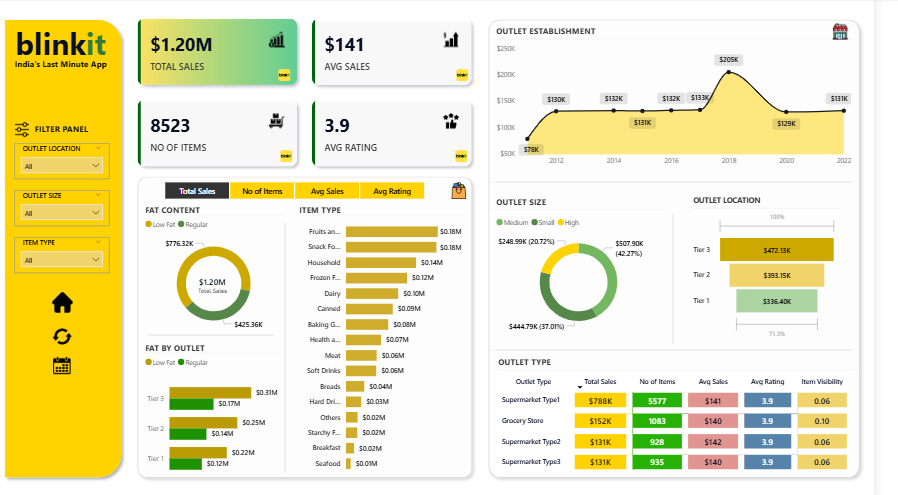

Layout of this report page (visuals, bound fields, positions):
{"tool":"powerbi","page":{"name":"Home","canvas":[1400,800],"ordinal":0},"visuals":[{"type":"shape","box":[0,25.3,205,750.7],"z":0},{"type":"textbox","box":[0,33,198.1,82.1],"z":1000},{"type":"cardVisual","fields":{"Data":["BlinkIT Grocery Data.Total Sum Sales","BlinkIT Grocery Data.Average Sales","BlinkIT Grocery Data.No of Items","BlinkIT Grocery Data.Avg Rating"]},"box":[204.8,15.8,569.7,270.8],"z":2000},{"type":"image","box":[71.4,466.3,58.7,42.6],"z":3000},{"type":"image","box":[74.4,521.1,52.1,39.7],"z":4000},{"type":"image","box":[81.8,568.8,38,39.1],"z":5000},{"type":"shape","box":[774.5,25.5,611.7,751.1],"z":6000},{"type":"areaChart","title":"OUTLET ESTABLISHMENT","fields":{"Y":["BlinkIT Grocery Data.Total Sum Sales"],"Category":["BlinkIT Grocery Data.Outlet Establishment Year2"]},"box":[790.6,42.5,578.3,234],"z":7000},{"type":"textbox","box":[0,89.6,198.1,34],"z":8000},{"type":"donutChart","title":"OUTLET SIZE","fields":{"Category":["BlinkIT Grocery Data.Outlet Size"],"Y":["BlinkIT Grocery Data.Total Sum Sales"]},"box":[790.6,316,273.6,224.5],"z":9000},{"type":"funnel","title":"OUTLET LOCATION","fields":{"Category":["BlinkIT Grocery Data.Outlet Location Type"],"Y":["BlinkIT Grocery Data.Total Sum Sales"]},"box":[1105.6,315.2,240,233.6],"z":10000},{"type":"pivotTable","title":"OUTLET TYPE","fields":{"Rows":["BlinkIT Grocery Data.Outlet Type"],"Values":["BlinkIT Grocery Data.Total Sum Sales","BlinkIT Grocery Data.No of Items","BlinkIT Grocery Data.Average Sales","BlinkIT Grocery Data.Avg Rating","Avg(BlinkIT Grocery Data.Item Visibility)"]},"box":[793.6,572.3,578.7,197.1],"z":11000},{"type":"shape","box":[793.4,284.9,570.8,19.8],"z":12000},{"type":"shape","box":[1064.2,346.2,29.2,208.5],"z":13000},{"type":"shape","box":[212.8,276.6,553.2,500],"z":14000},{"type":"donutChart","title":"FAT CONTENT","fields":{"Y":["BlinkIT Grocery Data.Total Sum Sales"],"Category":["BlinkIT Grocery Data.Item Fat Content"]},"box":[228.3,330.2,229.2,213.2],"z":15000},{"type":"shape","box":[793.4,553.8,570.8,19.8],"z":16000},{"type":"cardVisual","fields":{"Data":["BlinkIT Grocery Data.Total Sum Sales"]},"box":[291.9,428.1,102,54.5],"z":17000},{"type":"slicer","fields":{"Values":["Metric.Metric"]},"box":[240,287.5,464.2,39.6],"z":18000},{"type":"barChart","title":"ITEM TYPE","fields":{"Y":["BlinkIT Grocery Data.Total Sum Sales"],"Category":["BlinkIT Grocery Data.Item Type"]},"box":[475.3,330.2,269.8,438.1],"z":19000},{"type":"shape","box":[442.5,360.4,29.2,399.1],"z":20000},{"type":"clusteredBarChart","title":"FAT BY OUTLET","fields":{"Y":["BlinkIT Grocery Data.Total Sum Sales"],"Category":["BlinkIT Grocery Data.Outlet Location Type"],"Series":["BlinkIT Grocery Data.Item Fat Content"]},"box":[228.3,550.9,221.7,229.2],"z":21000},{"type":"shape","box":[239.6,529.2,200,19.8],"z":22000},{"type":"image","box":[725.5,108.5,33,29.2],"z":23000},{"type":"image","box":[723.6,237.7,33,29.2],"z":24000},{"type":"image","box":[442.5,237.7,33,29.2],"z":25000},{"type":"image","box":[440.6,108.5,33,29.2],"z":26000},{"type":"image","box":[715.6,289.2,41.3,36.9],"z":27000},{"type":"image","box":[1327.5,33.4,36,40.4],"z":28000},{"type":"slicer","fields":{"Values":["BlinkIT Grocery Data.Outlet Location Type"]},"box":[23.7,231.2,153,58],"z":29000},{"type":"slicer","fields":{"Values":["BlinkIT Grocery Data.Outlet Size"]},"box":[23.7,307.7,153,58],"z":30000},{"type":"slicer","fields":{"Values":["BlinkIT Grocery Data.Item Type"]},"box":[23.7,382.4,153,58],"z":31000},{"type":"textbox","box":[36.8,193.4,126.4,31.1],"z":32000},{"type":"image","box":[18.9,184,34.9,53.8],"z":33000}]}

Visuals, with their boxes on the page's 1400x800 design canvas (x1, y1, x2, y2). These are canvas units, not pixel positions in the 898x495 screenshot, which may show the page scaled, cropped or inside an application window:
shape: box=[0, 25, 205, 776]
textbox: box=[0, 33, 198, 115]
cardVisual - BlinkIT Grocery Data.Total Sum Sales x BlinkIT Grocery Data.Average Sales: box=[205, 16, 774, 287]
image: box=[71, 466, 130, 509]
image: box=[74, 521, 126, 561]
image: box=[82, 569, 120, 608]
shape: box=[774, 26, 1386, 777]
"OUTLET ESTABLISHMENT" areaChart: box=[791, 42, 1369, 276]
textbox: box=[0, 90, 198, 124]
"OUTLET SIZE" donutChart: box=[791, 316, 1064, 540]
"OUTLET LOCATION" funnel: box=[1106, 315, 1346, 549]
"OUTLET TYPE" pivotTable: box=[794, 572, 1372, 769]
shape: box=[793, 285, 1364, 305]
shape: box=[1064, 346, 1093, 555]
shape: box=[213, 277, 766, 777]
"FAT CONTENT" donutChart: box=[228, 330, 458, 543]
shape: box=[793, 554, 1364, 574]
cardVisual - BlinkIT Grocery Data.Total Sum Sales: box=[292, 428, 394, 483]
slicer - Metric.Metric: box=[240, 288, 704, 327]
"ITEM TYPE" barChart: box=[475, 330, 745, 768]
shape: box=[442, 360, 472, 760]
"FAT BY OUTLET" clusteredBarChart: box=[228, 551, 450, 780]
shape: box=[240, 529, 440, 549]
image: box=[726, 108, 758, 138]
image: box=[724, 238, 757, 267]
image: box=[442, 238, 476, 267]
image: box=[441, 108, 474, 138]
image: box=[716, 289, 757, 326]
image: box=[1328, 33, 1364, 74]
slicer - BlinkIT Grocery Data.Outlet Location Type: box=[24, 231, 177, 289]
slicer - BlinkIT Grocery Data.Outlet Size: box=[24, 308, 177, 366]
slicer - BlinkIT Grocery Data.Item Type: box=[24, 382, 177, 440]
textbox: box=[37, 193, 163, 224]
image: box=[19, 184, 54, 238]
